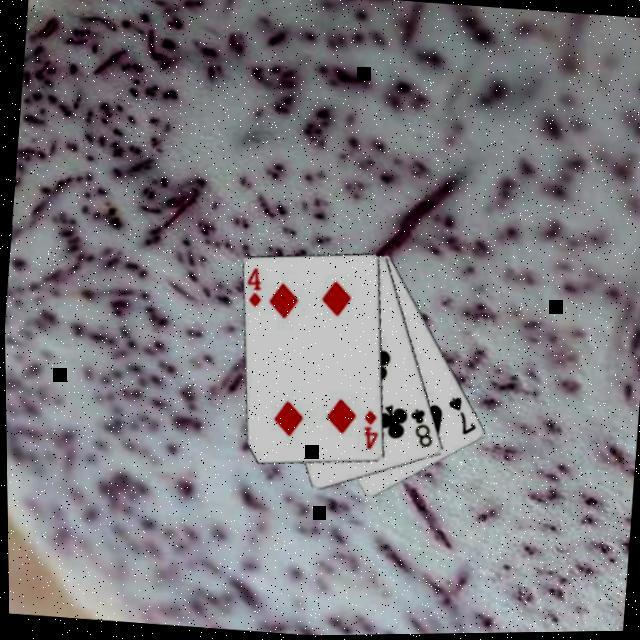4D: (355, 409, 380, 455), (239, 267, 263, 312)
7S: (439, 396, 478, 442)
8C: (401, 407, 436, 453)
